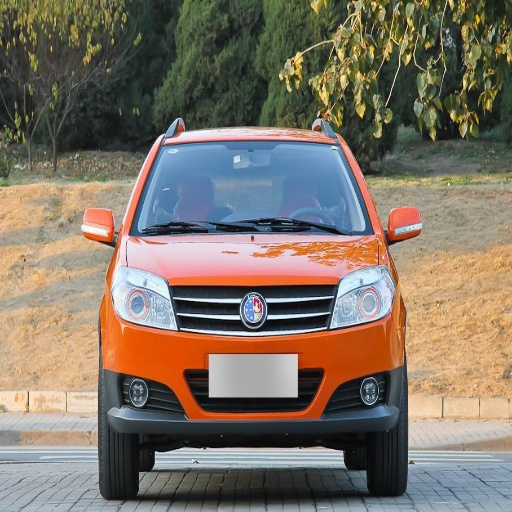front_bumper: (105, 285, 404, 449)
front_right_light: (110, 279, 175, 330)
hood: (121, 235, 384, 299)
left_mirror: (386, 206, 421, 244)
